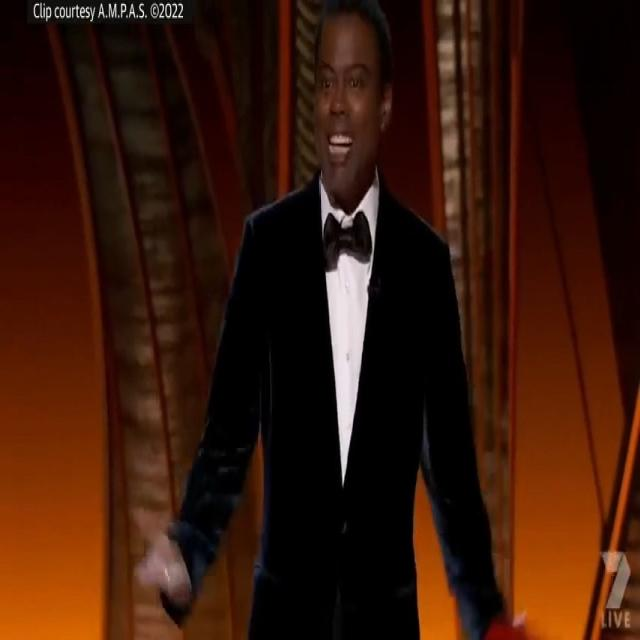non-fight: (132, 3, 510, 640)
